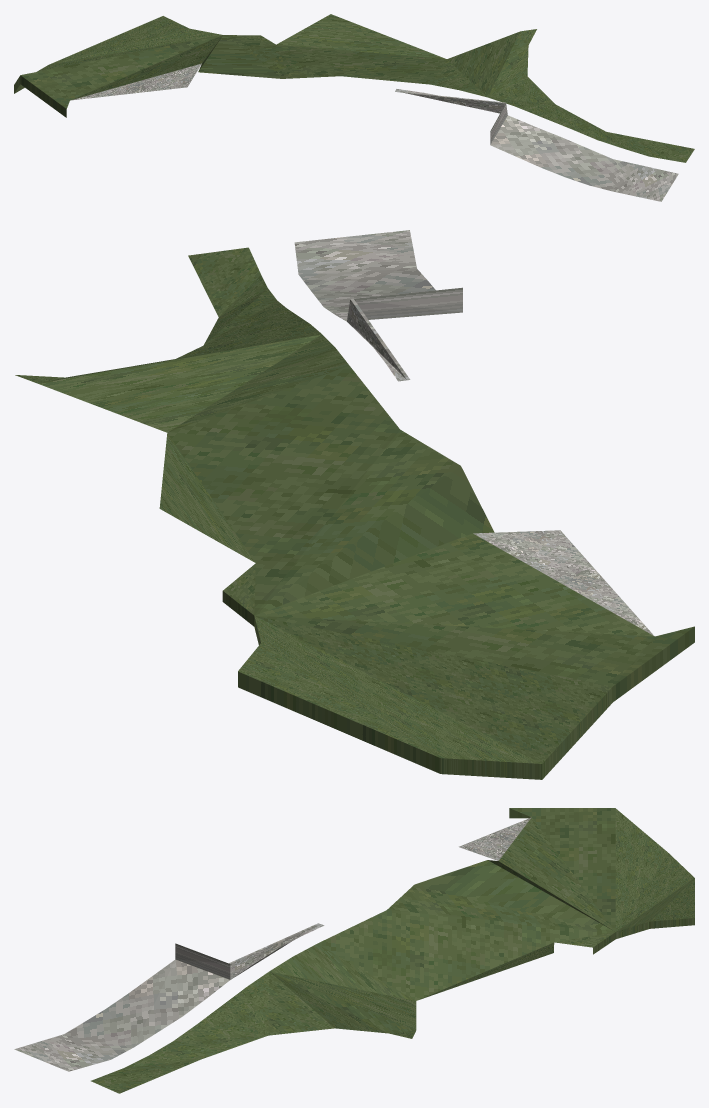
Rendered from lodjunction_05_sfse.obj.
3 views of the same model, one above another, from view 1: azimuth 30°, elevation 25°; view 2: azimuth 150°, elevation 25°; view 3: azimuth 270°, elevation 25° (orthographic). The views are drawn at different scales.
Parts seen in each view (by area): view 1: LODjunction_05_SFSe; view 2: LODjunction_05_SFSe; view 3: LODjunction_05_SFSe.
Boxes of the visible parts, <box> form: LODjunction_05_SFSe: <box>14,14,694,201</box>; LODjunction_05_SFSe: <box>15,230,694,779</box>; LODjunction_05_SFSe: <box>14,808,694,1093</box>.
Size of the model in its own units: 228 by 27.97 by 257.
Materials: 2 (2 with a texture image).
